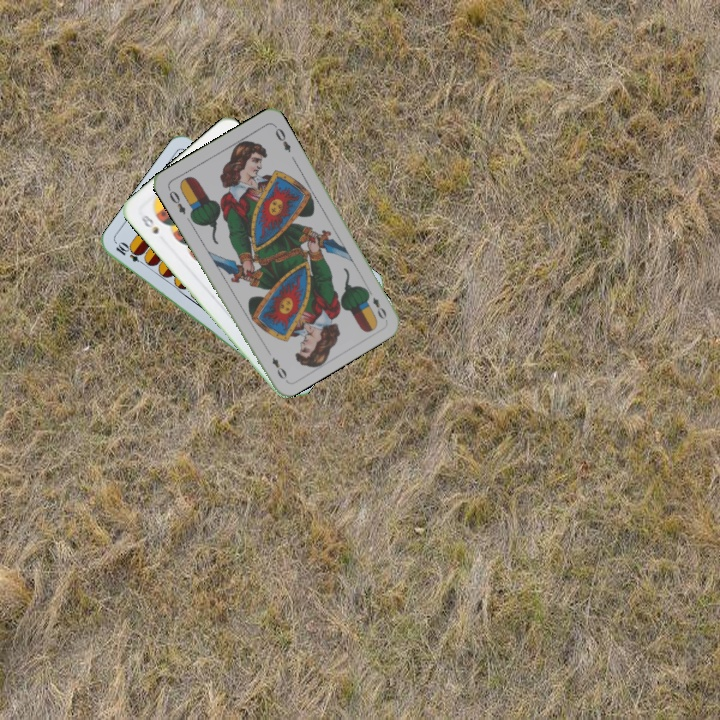E10: (112, 239, 149, 268)
EO: (363, 285, 389, 322), (164, 184, 188, 217)
S8: (137, 211, 161, 237)
